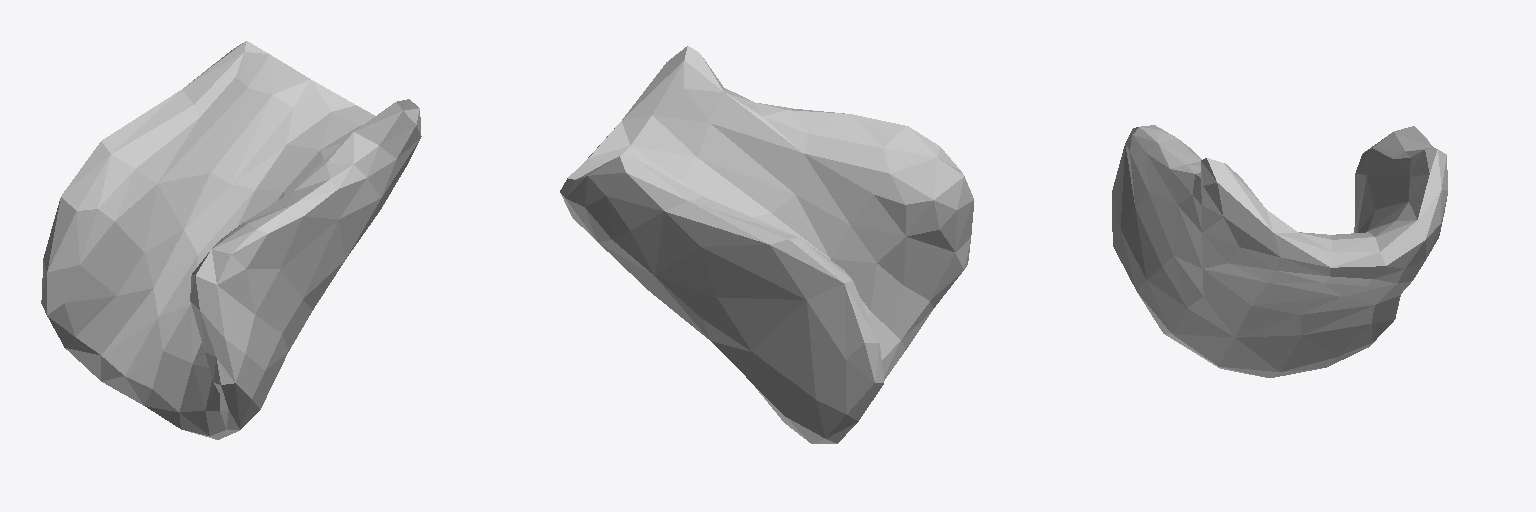
The model's file is Arm device strap.OBJ.
3 views of the same model, side by side, from view 1: azimuth 30°, elevation 25°; view 2: azimuth 150°, elevation 25°; view 3: azimuth 270°, elevation 25° (orthographic).
Visible parts, largest first — view 1: Group3436; view 2: Group3436; view 3: Group3436.
Part boxes in pixels (bbox=[...]): Group3436: bbox=[41, 41, 421, 439]; Group3436: bbox=[560, 46, 973, 443]; Group3436: bbox=[1112, 125, 1447, 377].
Size of the model in its own units: 19.8 by 18.03 by 17.74.